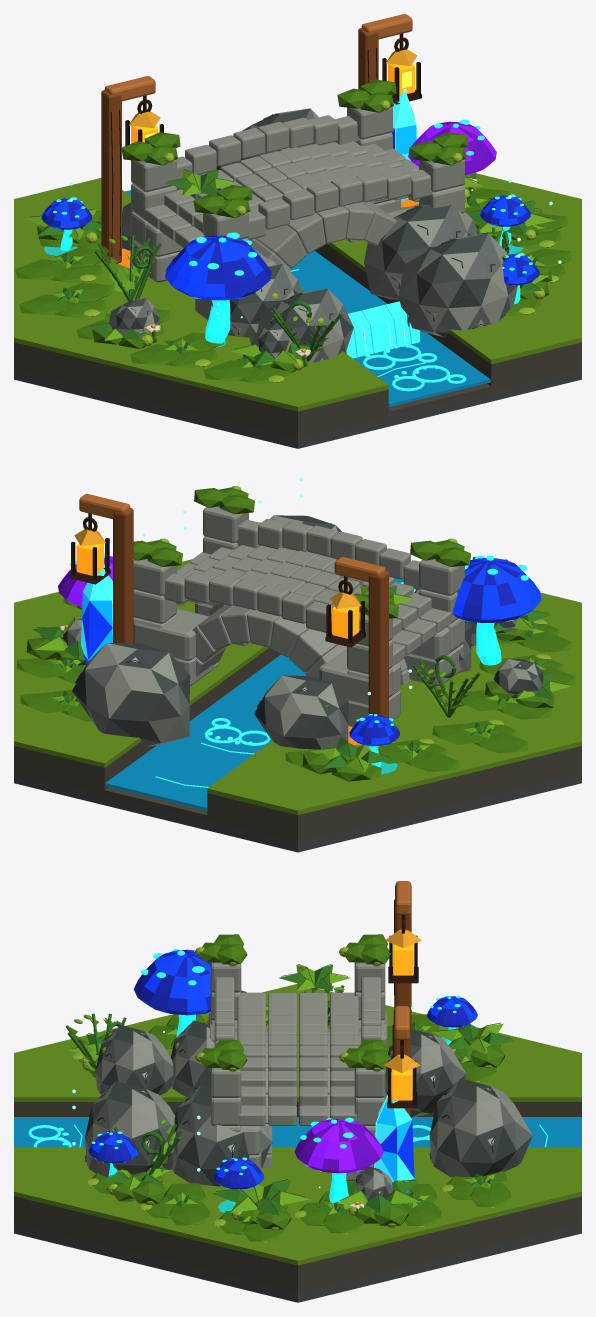
The model's file is hex_lantern_bridge.glb.
The picture shows the model from 3 angles, top to bottom: view 1: azimuth 30°, elevation 25°; view 2: azimuth 150°, elevation 25°; view 3: azimuth 270°, elevation 25°; orthographic projection.
Parts seen in each view (by area): view 1: Meadow river bank.002, Meadow river bank.003, Angular mossy forest boulder.002, Cut river bank.002, Continuous river water.001, River hex stone foundation.001, Angular mossy forest boulder.006, Broad faceted mushroom cap.001, Cut river bank.003, Angular mossy forest boulder.001, River hex bed.001, Woodland lantern upright.001 (+48 smaller); view 2: Meadow river bank.002, Continuous river water.001, Meadow river bank.003, Angular mossy forest boulder.004, Cut river bank.002, River hex stone foundation.001, Angular mossy forest boulder.003, Broad faceted mushroom cap.001, Cut river bank.003, River hex bed.001, Woodland lantern upright.001, Woodland lantern upright.002 (+56 smaller); view 3: Meadow river bank.003, Cut river bank.003, Meadow river bank.002, Angular mossy forest boulder.004, River hex stone foundation.001, Angular mossy forest boulder.002, Continuous river water.001, Angular mossy forest boulder.006, Angular mossy forest boulder.001, Broad faceted mushroom cap.001, Broad faceted mushroom cap.003, Angular mossy forest boulder.003 (+31 smaller).
Boxes of the visible parts, x1,y1,x2,y2 form: Meadow river bank.002: [14, 178, 388, 411]; Meadow river bank.003: [221, 166, 581, 364]; Angular mossy forest boulder.002: [398, 233, 517, 337]; Cut river bank.002: [14, 342, 388, 433]; Continuous river water.001: [125, 174, 490, 406]; River hex stone foundation.001: [14, 369, 581, 448]; Angular mossy forest boulder.006: [364, 205, 477, 299]; Broad faceted mushroom cap.001: [165, 235, 271, 300]; Cut river bank.003: [216, 166, 581, 386]; Angular mossy forest boulder.001: [257, 288, 353, 363]; River hex bed.001: [14, 364, 581, 438]; Woodland lantern upright.001: [101, 90, 121, 265]; Meadow river bank.002: [207, 592, 581, 814]; Continuous river water.001: [105, 578, 416, 810]; Meadow river bank.003: [14, 559, 269, 767]; Angular mossy forest boulder.004: [72, 643, 190, 746]; Cut river bank.002: [207, 746, 581, 837]; River hex stone foundation.001: [14, 773, 581, 852]; Angular mossy forest boulder.003: [254, 675, 348, 749]; Broad faceted mushroom cap.001: [452, 558, 541, 622]; Cut river bank.003: [14, 647, 280, 790]; River hex bed.001: [14, 768, 581, 841]; Woodland lantern upright.001: [368, 571, 388, 718]; Woodland lantern upright.002: [113, 508, 133, 643]; Meadow river bank.003: [14, 1147, 581, 1265]; Cut river bank.003: [14, 1196, 581, 1287]; Meadow river bank.002: [14, 984, 581, 1101]; Angular mossy forest boulder.004: [429, 1078, 532, 1177]; River hex stone foundation.001: [14, 1223, 581, 1302]; Angular mossy forest boulder.002: [85, 1081, 175, 1177]; Continuous river water.001: [14, 1117, 581, 1147]; Angular mossy forest boulder.006: [172, 1085, 272, 1186]; Angular mossy forest boulder.001: [95, 1025, 173, 1095]; Broad faceted mushroom cap.001: [133, 949, 210, 1015]; Broad faceted mushroom cap.003: [294, 1119, 383, 1173]; Angular mossy forest boulder.003: [385, 1028, 466, 1117].
Size of the model in its own units: 5.1 by 1.86 by 4.42.
